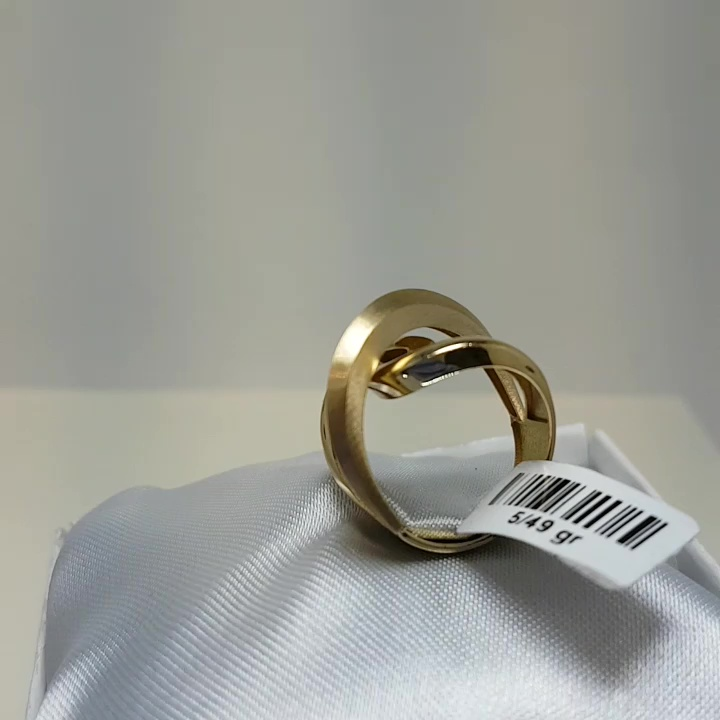Ring 3: (284, 268, 567, 577)
